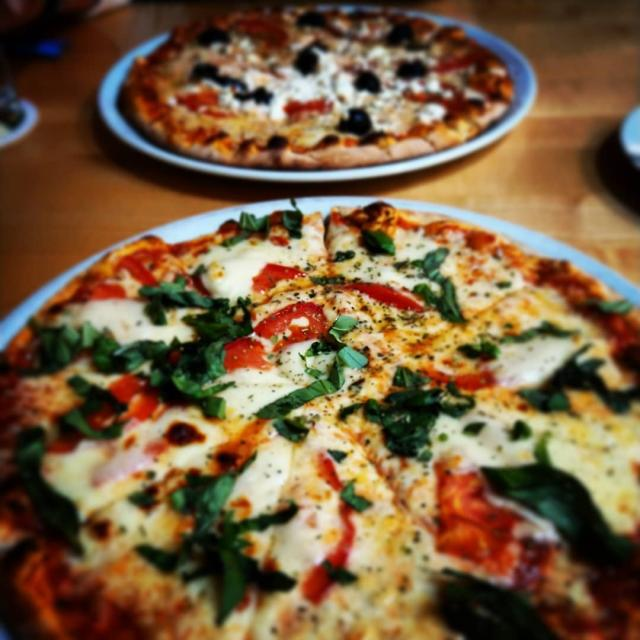basil: (135, 496, 308, 628), (477, 461, 631, 566), (8, 424, 93, 556), (511, 341, 640, 417), (250, 361, 352, 421), (167, 451, 261, 516), (331, 380, 476, 422), (134, 370, 239, 408), (420, 251, 468, 323), (382, 405, 441, 458), (172, 333, 234, 382), (183, 298, 253, 338), (26, 315, 80, 366), (139, 274, 215, 310), (64, 372, 130, 413), (55, 408, 126, 445), (495, 319, 582, 346), (76, 319, 118, 371), (220, 208, 273, 247), (113, 339, 169, 371), (576, 297, 636, 318), (339, 478, 374, 512), (457, 337, 500, 364), (336, 341, 371, 372), (361, 228, 397, 258), (390, 364, 435, 388), (272, 417, 312, 443), (322, 559, 360, 584), (282, 199, 305, 239), (506, 418, 533, 443), (203, 393, 225, 420), (324, 446, 351, 466), (329, 247, 357, 266), (145, 300, 167, 324), (309, 273, 347, 286), (463, 418, 487, 437)
black_olives: (339, 107, 372, 135), (234, 86, 275, 105), (292, 48, 318, 76), (196, 25, 230, 45), (354, 69, 379, 95), (190, 63, 218, 82), (296, 11, 326, 28), (214, 74, 247, 89), (397, 62, 413, 78), (414, 58, 427, 76)
pizza: (0, 198, 640, 640), (118, 1, 516, 172)
